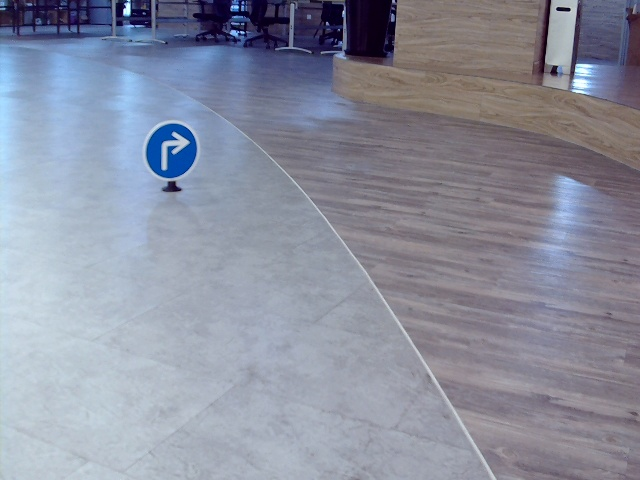turn_right: (157, 129, 185, 169)
